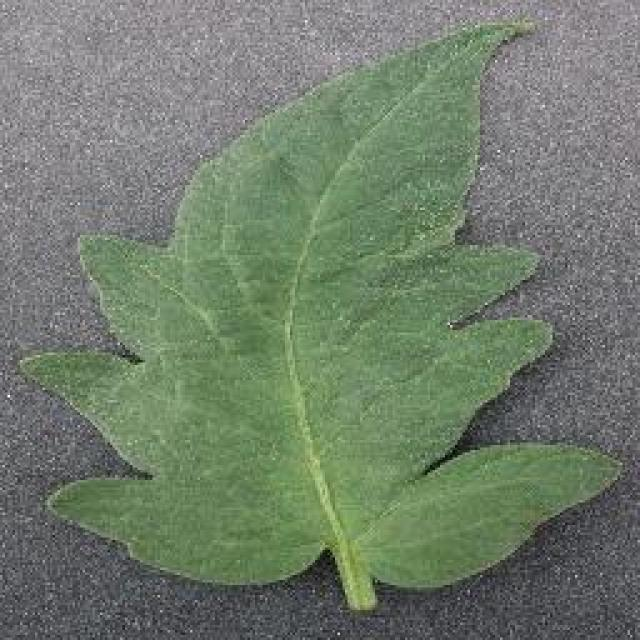Tomato healthy leaf: (39, 19, 614, 601)
